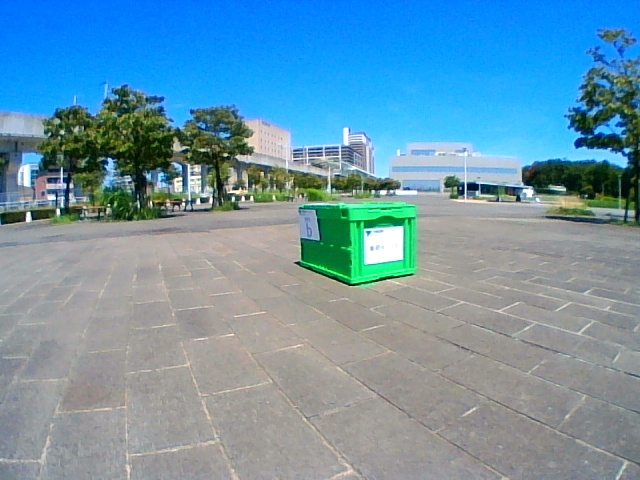green_box: (299, 202, 414, 284)
tag_b: (300, 211, 318, 239)
